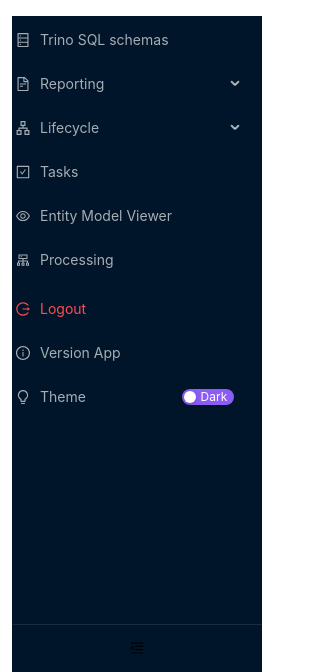
Test: LeftSideMenu › Submenu Behavior › should render submenu items for Lifecycle
The width and height of the screenshot is (332, 672).
Step 1. Click the menu item "Lifecycle" → (58,128), box [16,119,99,136]
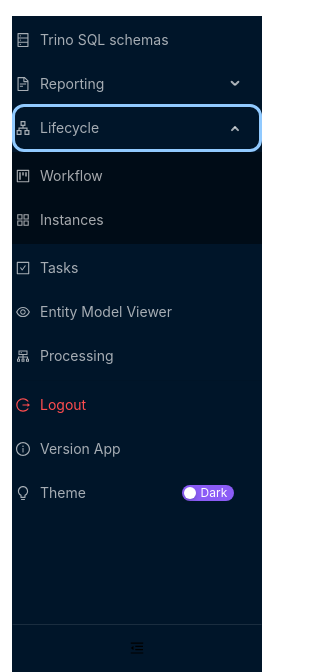
Check: the text "Workflow" is shown, box [40,167,103,184]
Check: the text "Instances" is shown, box [40,211,104,228]
